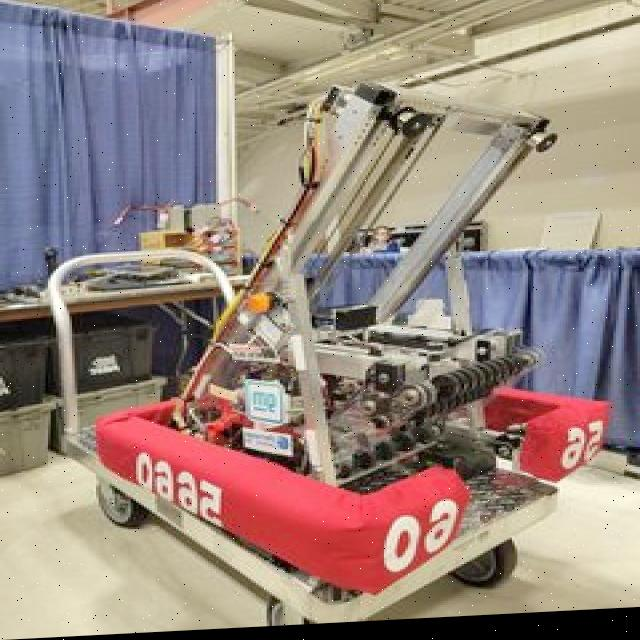robot: (87, 90, 596, 615)
